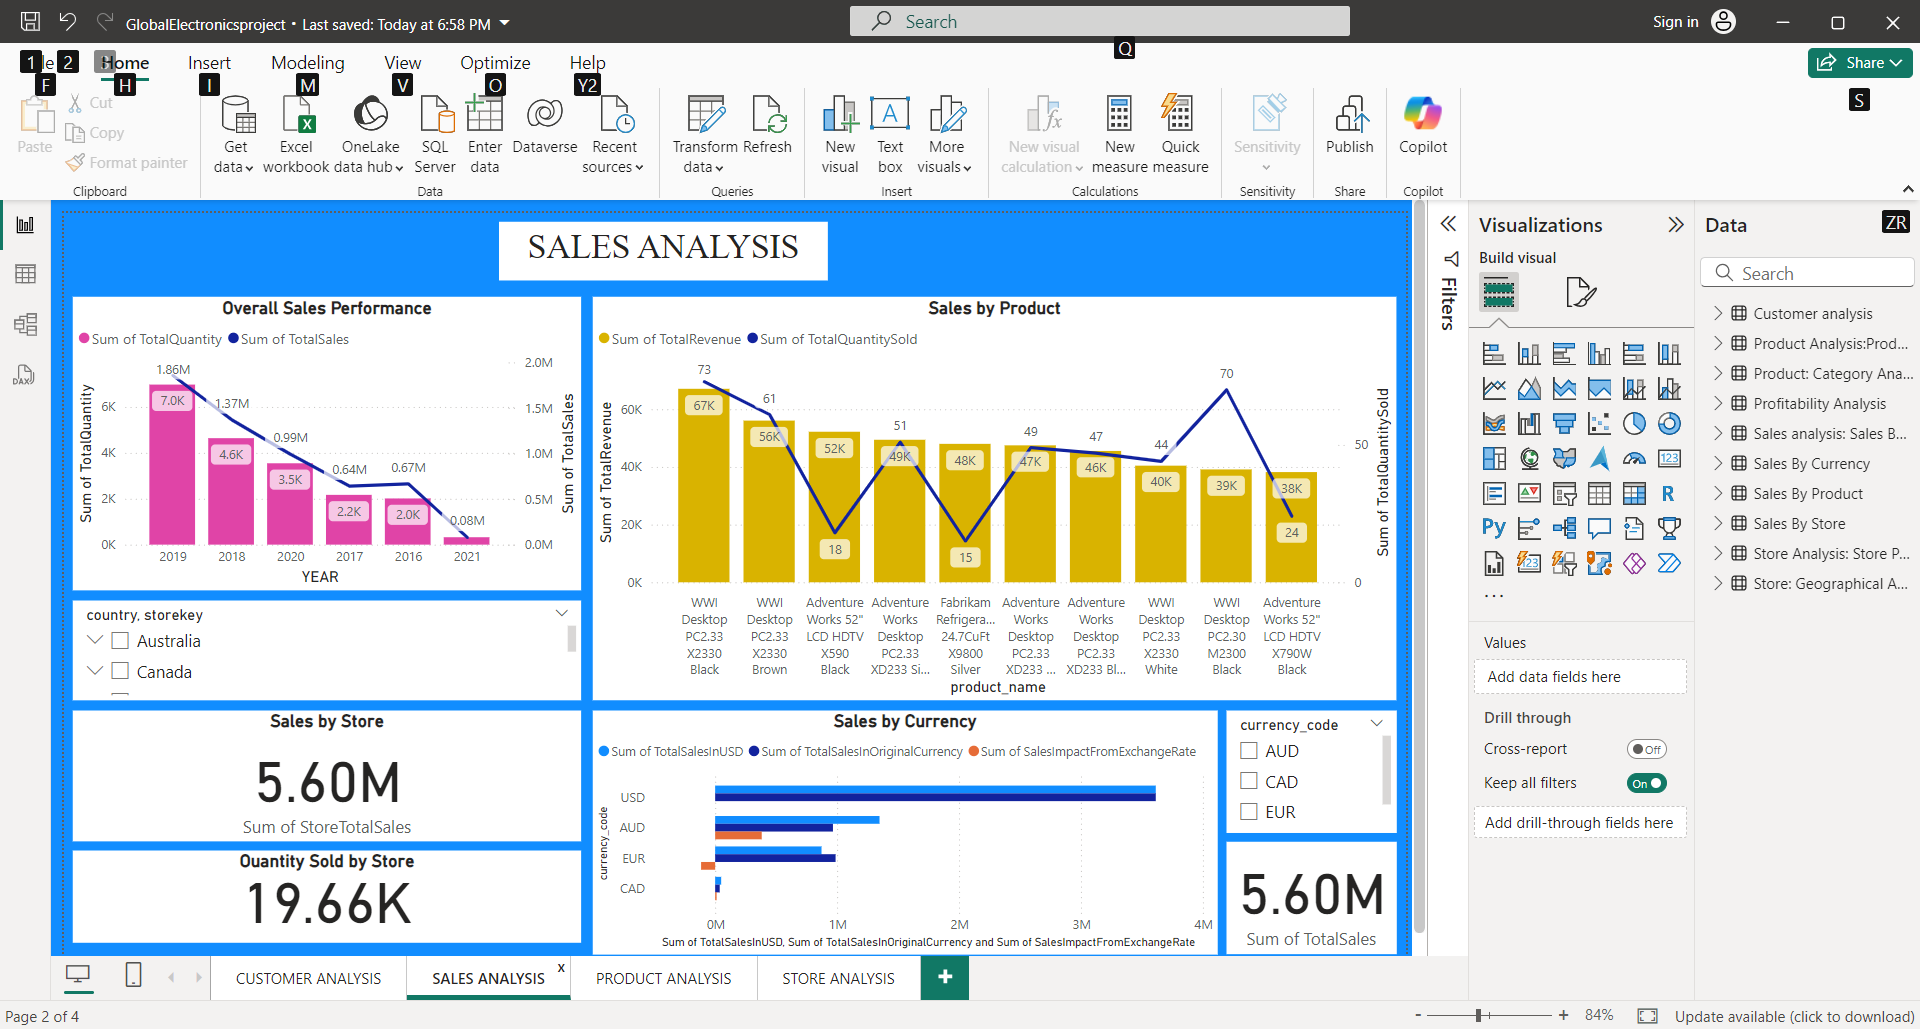

Layout of this report page (visuals, bound fields, positions):
{"tool":"powerbi","page":{"name":"SALES ANALYSIS","canvas":[1280,720],"ordinal":1},"visuals":[{"type":"lineClusteredColumnComboChart","title":"Overall Sales Performance","fields":{"Category":["Sales analysis: Sales By overall.YEAR"],"Y":["Sales analysis: Sales By overall.TotalQuantity"],"Y2":["Sales analysis: Sales By overall.TotalSales"]},"box":[8.3,79.9,485.2,280.1],"z":0},{"type":"slicer","fields":{"Values":["Sales By Store.country","Sales By Store.storekey"]},"box":[8.3,369.5,485.2,95.4],"z":1000},{"type":"lineClusteredColumnComboChart","title":"Sales by Product","fields":{"Category":["Sales By Product.product_name"],"Y":["Sales By Product.TotalRevenue","Sales By Product.TotalRevenue"],"Y2":["Sales By Product.TotalQuantitySold"]},"box":[504.2,79.9,766.5,385],"z":2000},{"type":"card","title":"Sales by Store","fields":{"Values":["Sales By Store.StoreTotalSales"]},"box":[8.3,474.4,485.2,125.2],"z":3000},{"type":"card","title":"Ouantity Sold by Store","fields":{"Values":["Sales By Store.StoreTotalQuantity"]},"box":[8.3,607.9,485.2,88.2],"z":4000},{"type":"clusteredBarChart","title":"Sales by Currency","fields":{"Category":["Sales By Currency.currency_code"],"Y":["Sales By Currency.TotalSalesInUSD","Sales By Currency.TotalSalesInOriginalCurrency","Sales By Currency.SalesImpactFromExchangeRate"]},"box":[504.2,474.4,596,232.4],"z":5000},{"type":"slicer","fields":{"Values":["Sales By Currency.currency_code"]},"box":[1108.6,474.4,162.1,116.8],"z":6000},{"type":"card","fields":{"Values":["Sales analysis: Sales By overall.TotalSales"]},"box":[1108.6,599.6,162.1,107.3],"z":7000},{"type":"textbox","box":[414.8,8.3,313.5,56],"z":8000}]}

Visuals, with their boxes on the page's 1280x720 design canvas (x1, y1, x2, y2). These are canvas units, not pixel positions in the 1920x1029 screenshot, which may show the page scaled, cropped or inside an application window:
"Overall Sales Performance" lineClusteredColumnComboChart: crop(8, 80, 494, 360)
slicer - Sales By Store.country x Sales By Store.storekey: crop(8, 370, 494, 465)
"Sales by Product" lineClusteredColumnComboChart: crop(504, 80, 1271, 465)
"Sales by Store" card: crop(8, 474, 494, 600)
"Ouantity Sold by Store" card: crop(8, 608, 494, 696)
"Sales by Currency" clusteredBarChart: crop(504, 474, 1100, 707)
slicer - Sales By Currency.currency_code: crop(1109, 474, 1271, 591)
card - Sales analysis: Sales By overall.TotalSales: crop(1109, 600, 1271, 707)
textbox: crop(415, 8, 728, 64)
